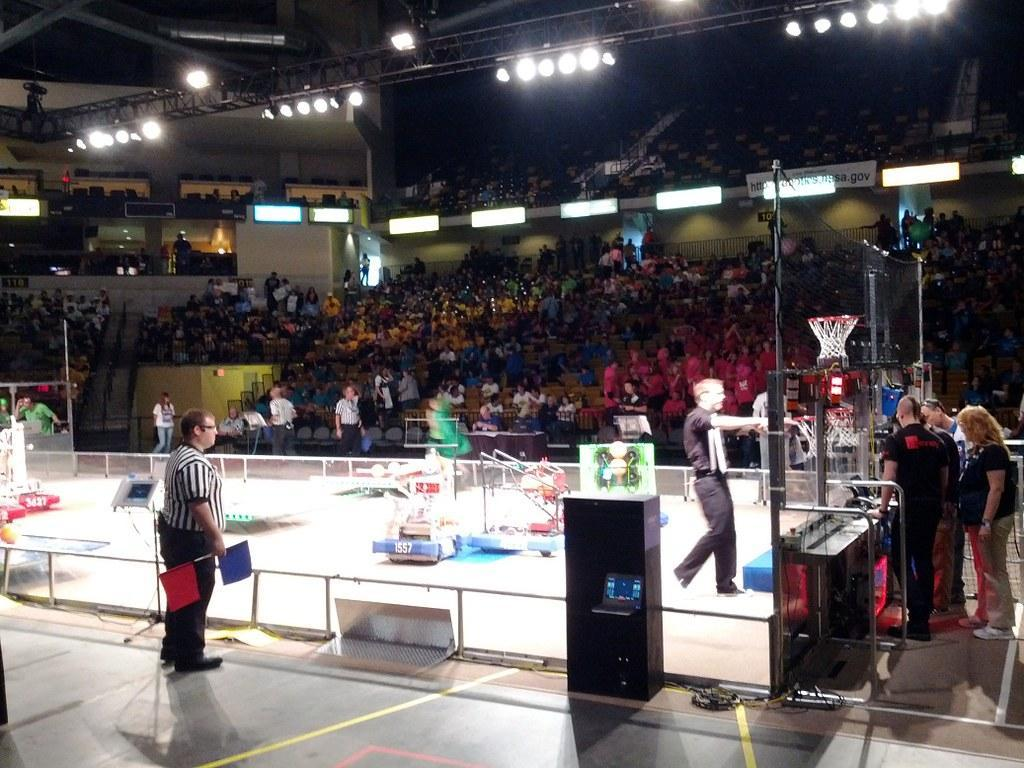robot: (364, 455, 465, 580), (464, 445, 573, 559), (0, 415, 67, 518)
